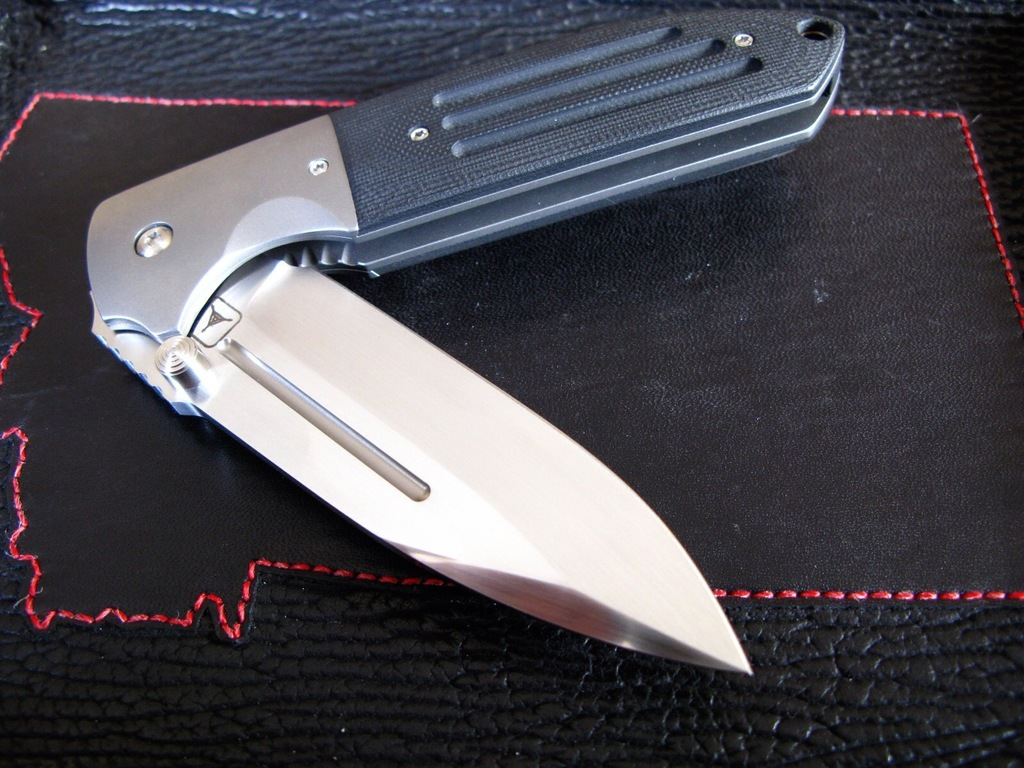knife: (86, 9, 845, 675)
